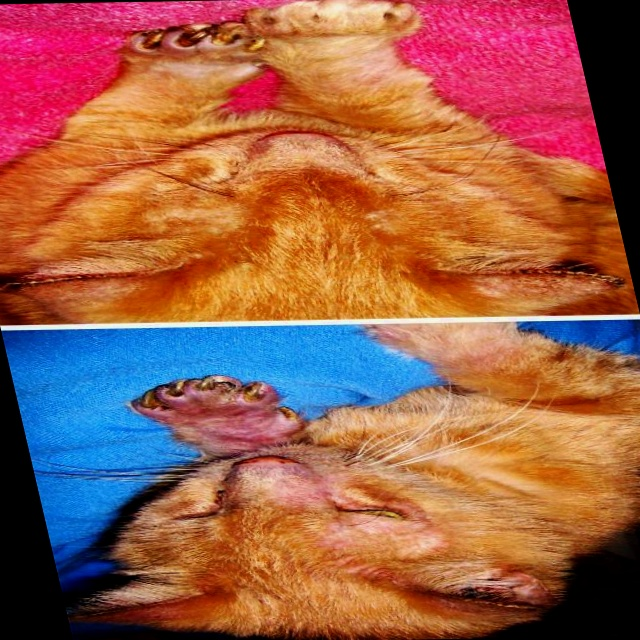ringworm: (150, 404, 287, 442), (308, 522, 438, 557)
